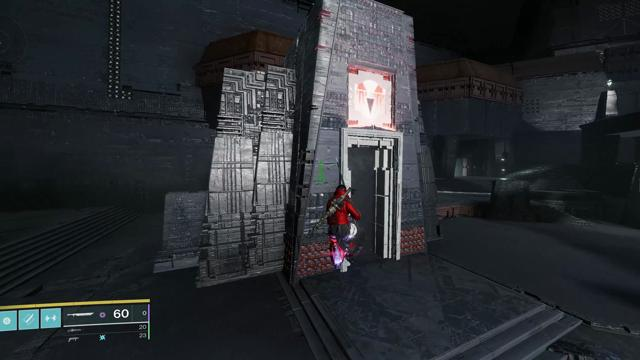give: (354, 80, 386, 119)
